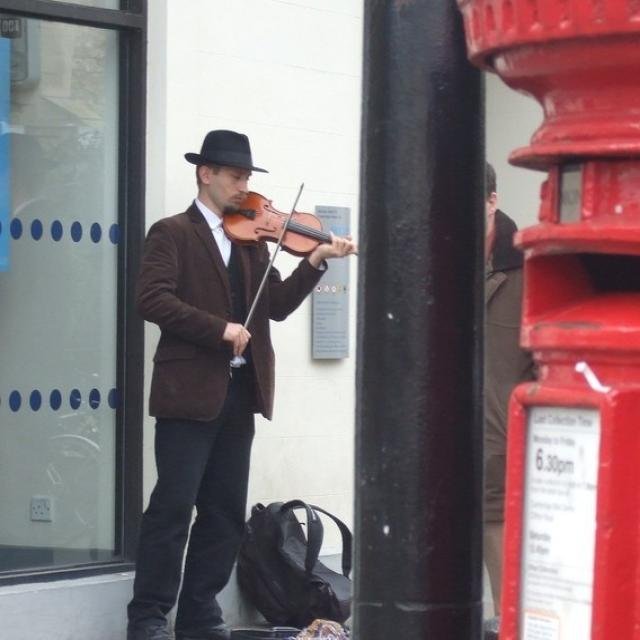violin: (220, 190, 352, 262)
